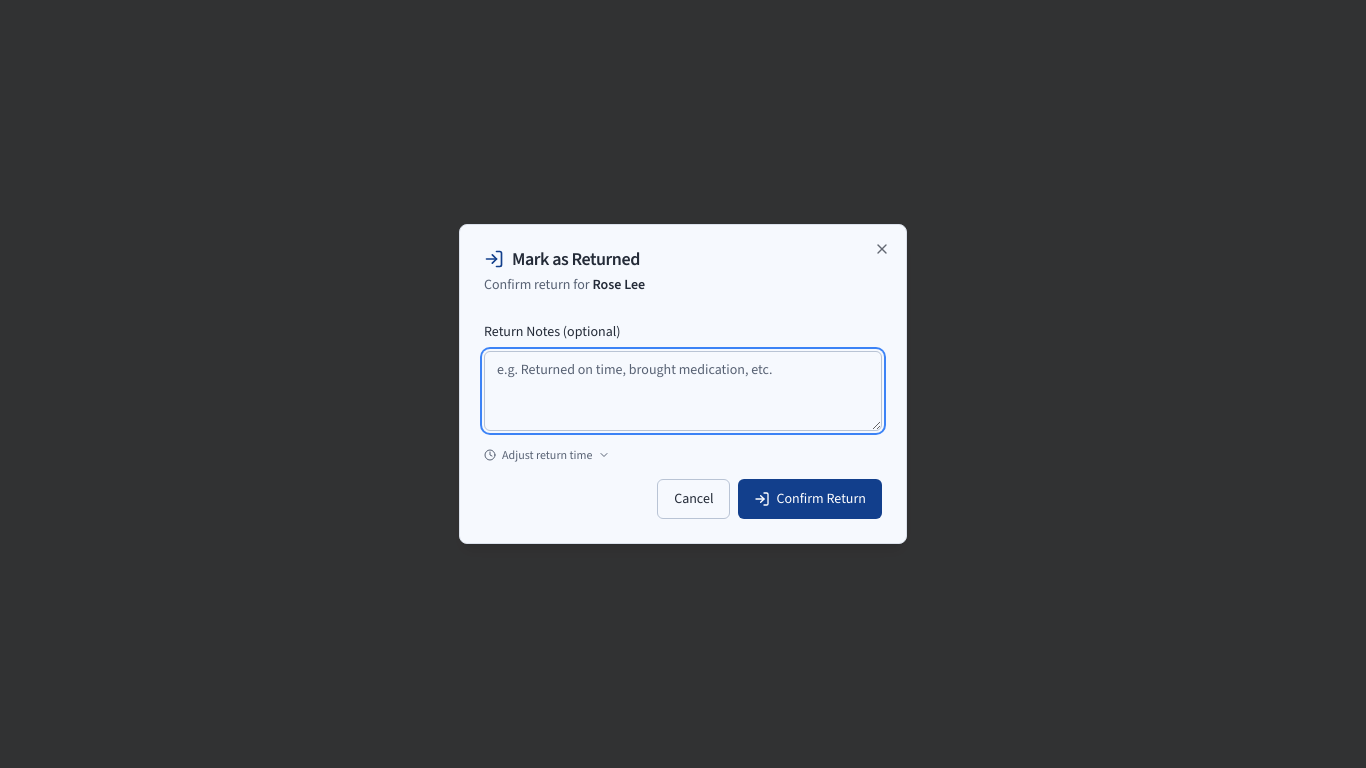
Test: resident movement guarded interactions › return failure retains notes and allows retry without false dismissal
Later steps or results of the test are not shown.
In the text box labelled "Return Notes (optional)": (683, 391) [484, 351, 882, 431], type "Resident reported return"
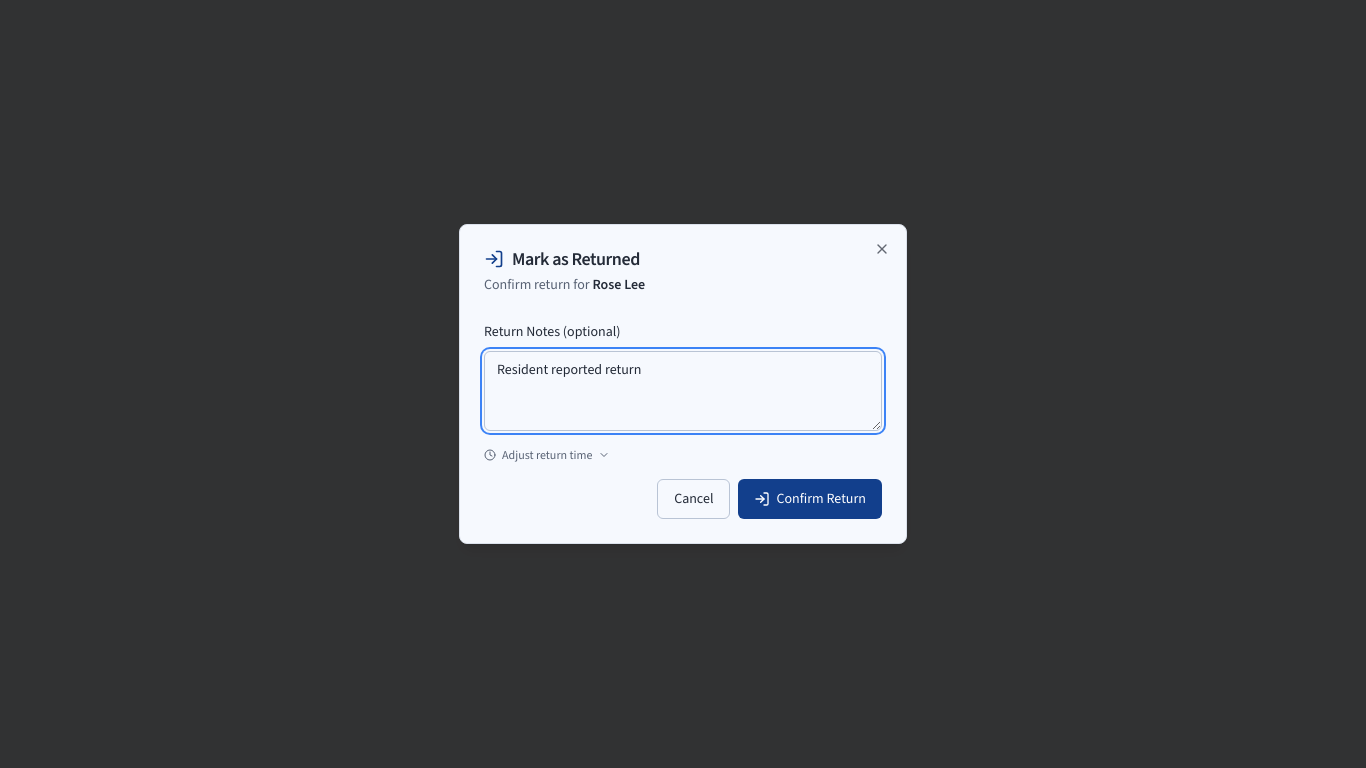
Click the button "Confirm Return": click(810, 499) [738, 479, 882, 519]
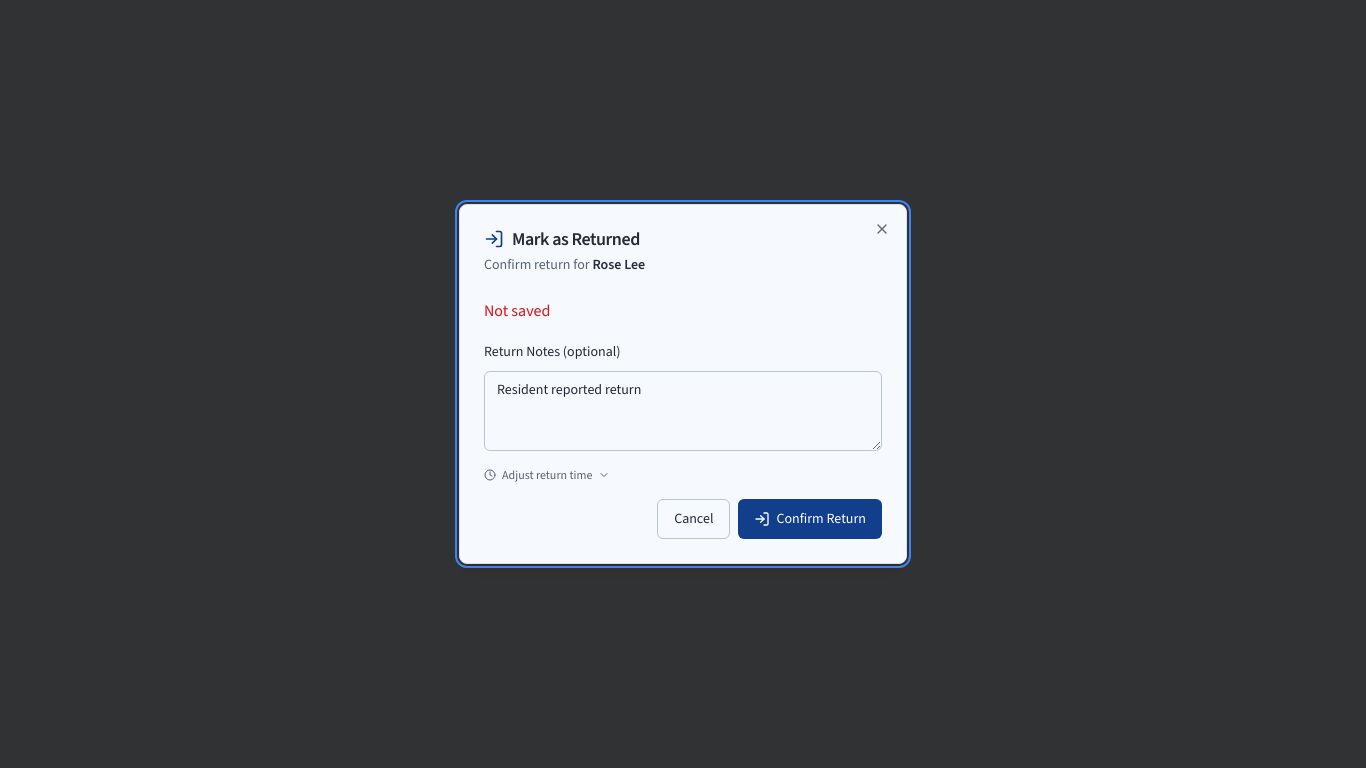
expect the message "Not saved" is shown: met, box [484, 300, 550, 321]
